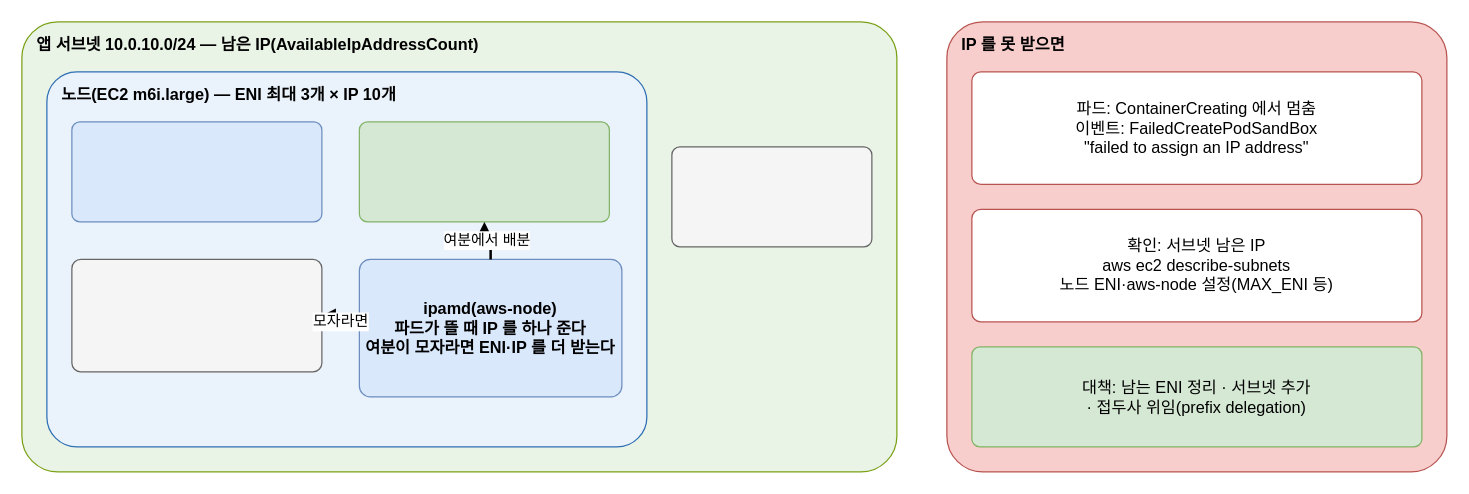
The diagram is 1469 pixels wide and 494 high, and some of its shapes have lost their labels. Each missing label, with the centre of its shape:
ENI 1(기본) IP 10개 — 사용 중 파드에 배분: pixel 196 171
ENI 2(웜 풀) 미리 받아 둔 여분 IP: pixel 483 171
ENI 3 필요할 때 더 붙인다 (MAX_ENI 가 막으면 못 붙임): pixel 196 315
다른 팀 ENI · 노드 · LB 가 서브넷 IP 를 쓰고 있다: pixel 771 196
